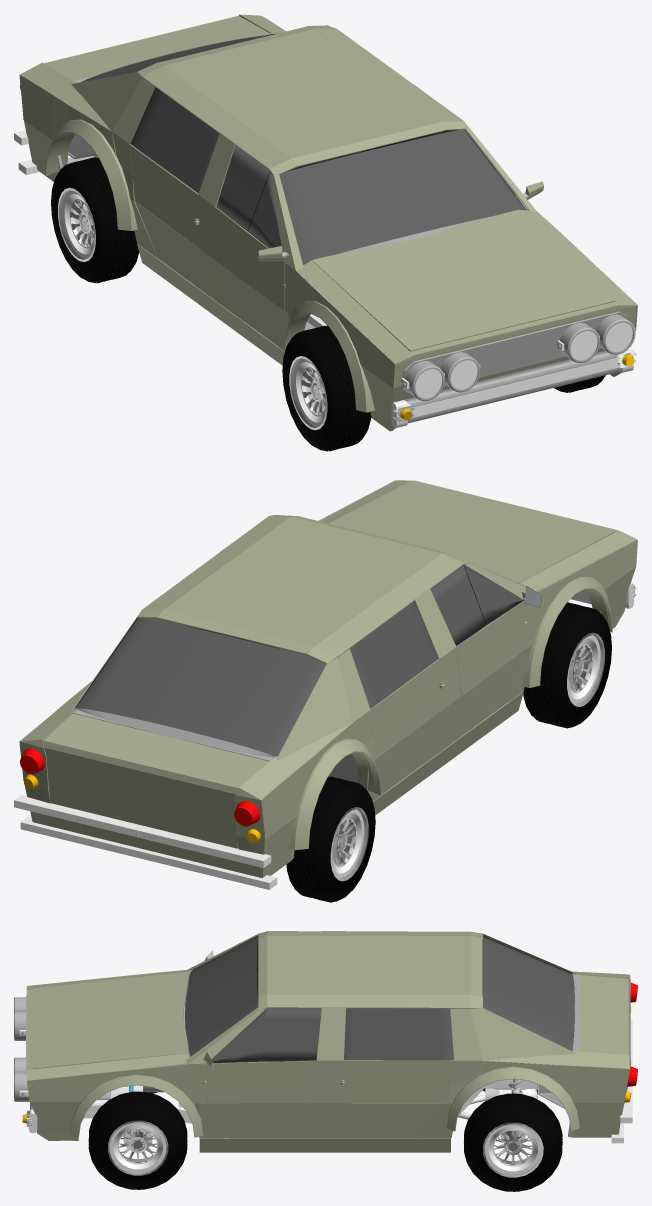
Rendered from carMilitary.fbx.
3 views of the same model, one above another, from view 1: azimuth 30°, elevation 25°; view 2: azimuth 150°, elevation 25°; view 3: azimuth 270°, elevation 25° (orthographic). The views are drawn at different scales.
Parts seen in each view (by area): view 1: A-car 000_mesh; view 2: A-car 000_mesh; view 3: A-car 000_mesh.
Part boxes in pixels (x1,y1,x2,y2): A-car 000_mesh: [14, 14, 637, 451]; A-car 000_mesh: [14, 480, 637, 902]; A-car 000_mesh: [14, 931, 637, 1191].
Bounding box in the file's own units: 215 × 158 × 507.
